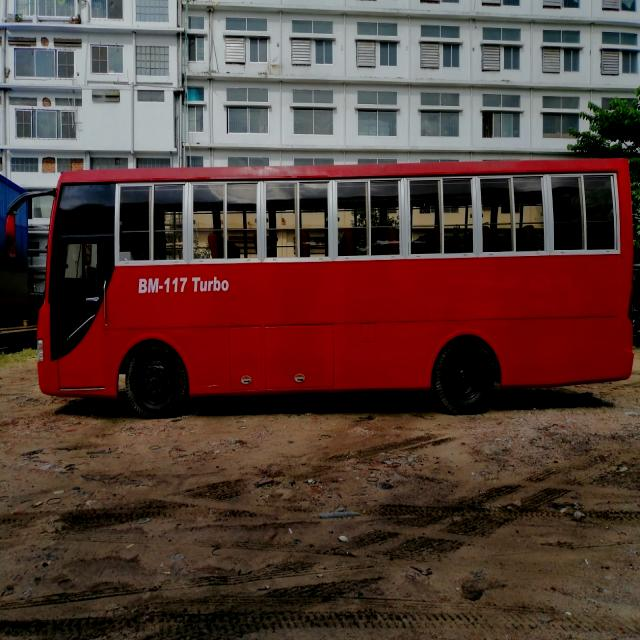bus: (1, 148, 640, 461)
